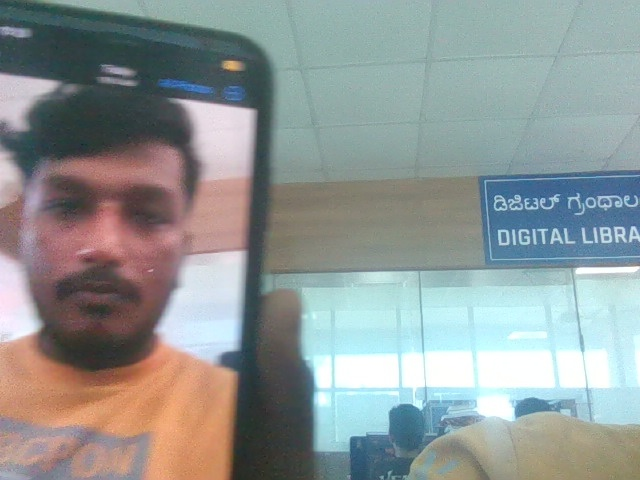fake: (0, 51, 232, 379)
